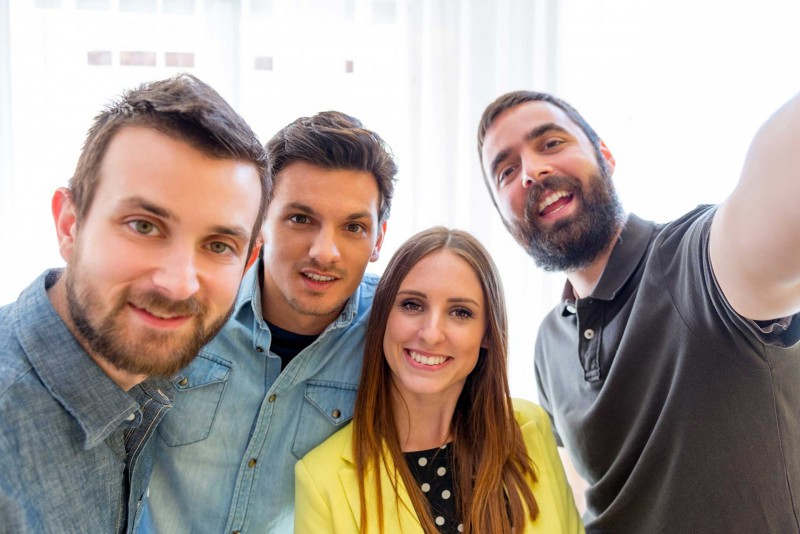without_mask: (112, 133, 229, 364), (480, 118, 601, 243), (276, 162, 363, 303), (398, 253, 472, 385)
